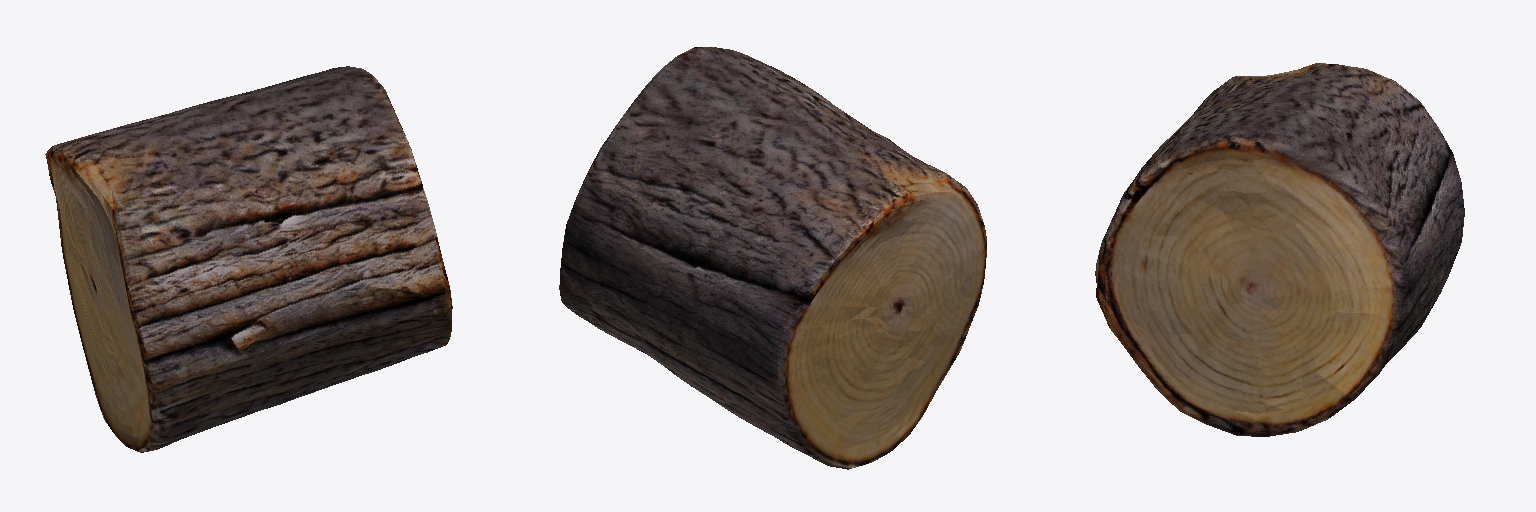
The picture shows the model from 3 angles: view 1: azimuth 30°, elevation 25°; view 2: azimuth 150°, elevation 25°; view 3: azimuth 270°, elevation 25°; orthographic projection.
Parts seen in each view (by area): view 1: mesh; view 2: mesh; view 3: mesh.
Part boxes in pixels (x1,y1,x2,y2): mesh: (45,66,452,452); mesh: (559,47,986,469); mesh: (1095,63,1464,436).
Bounding box in the file's own units: 0.9927 × 0.9181 × 0.924.
Materials: 1 (1 with a texture image).